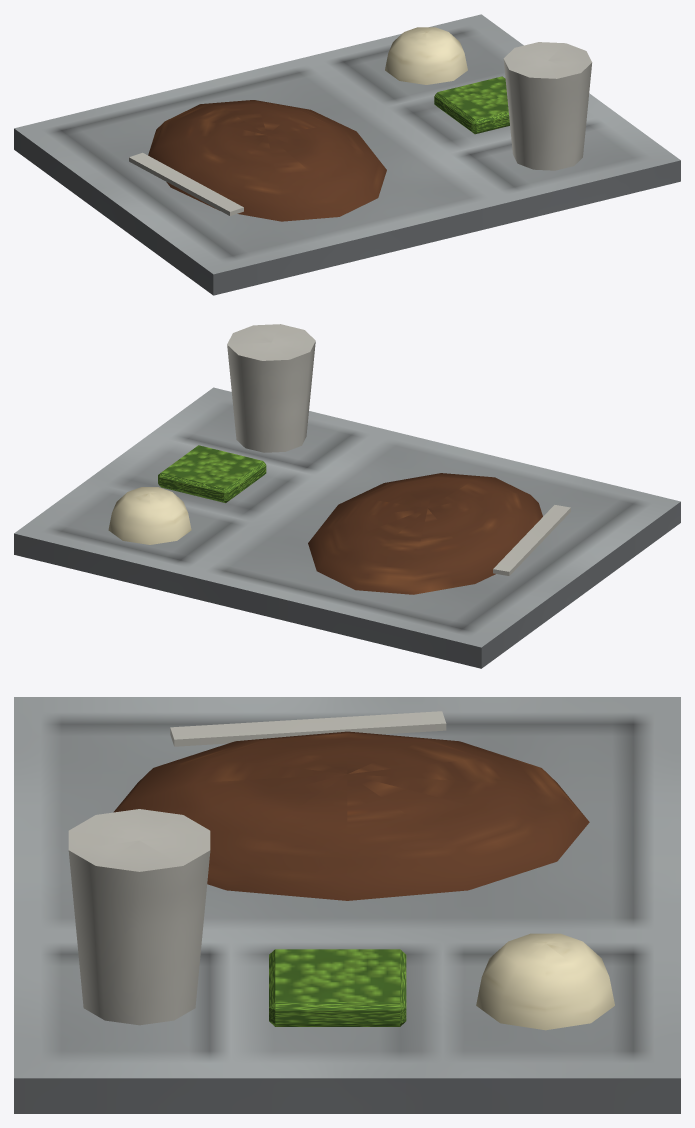
Rendered from tray_food.fbx.
The picture shows the model from 3 angles, top to bottom: view 1: azimuth 30°, elevation 25°; view 2: azimuth 150°, elevation 25°; view 3: azimuth 270°, elevation 25°; orthographic projection. The views are drawn at different scales.
Visible parts, largest first — view 1: tray_food; view 2: tray_food; view 3: tray_food.
Boxes of the visible parts, x1=… form: tray_food: x1=14, y1=14, x2=680, y2=295; tray_food: x1=14, y1=324, x2=680, y2=668; tray_food: x1=14, y1=697, x2=680, y2=1113.
Size of the model in its own units: 0.46 by 0.11 by 0.34.
Materials: 1 (1 with a texture image).
